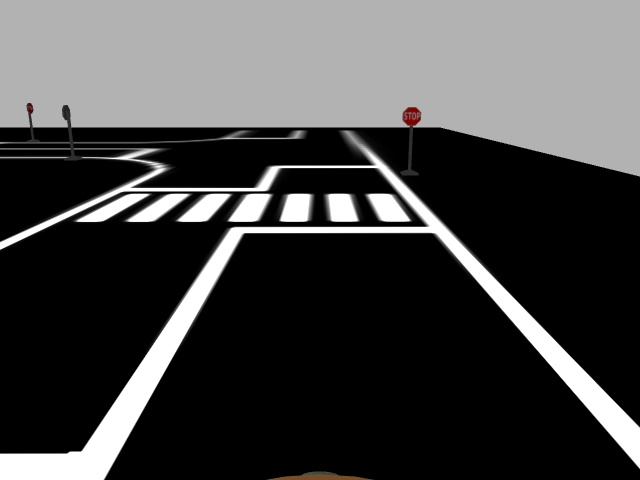stop: (400, 106, 424, 127)
